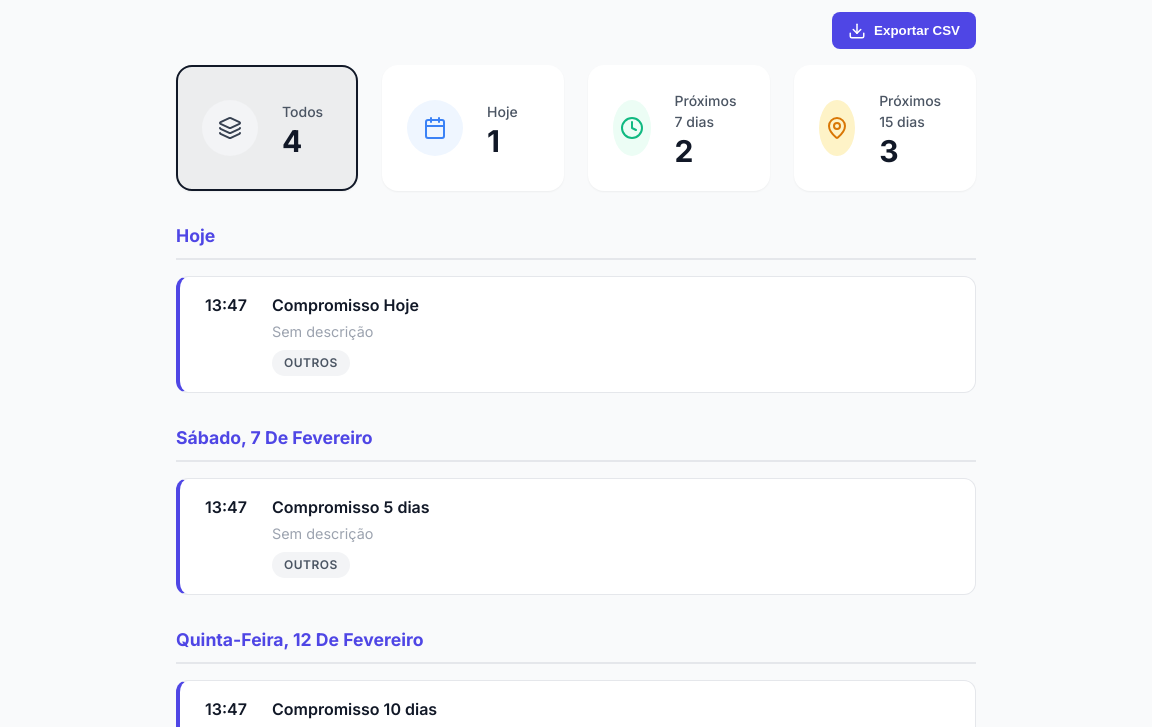
Scenario: AgendaView Component › deve filtrar compromissos por Hoje, 7 dias e 15 dias
Expected: the heading "Compromisso Hoje" is shown, 272,295 -> 419,315
Expected: the heading "Compromisso 5 dias" is shown, 272,497 -> 430,517
Note: Likely the first one is the card if it renders top to bottom.
Click the heading "Hoje" next to "Próximos 7 dias" at (502, 111), box 487,101 -> 518,122
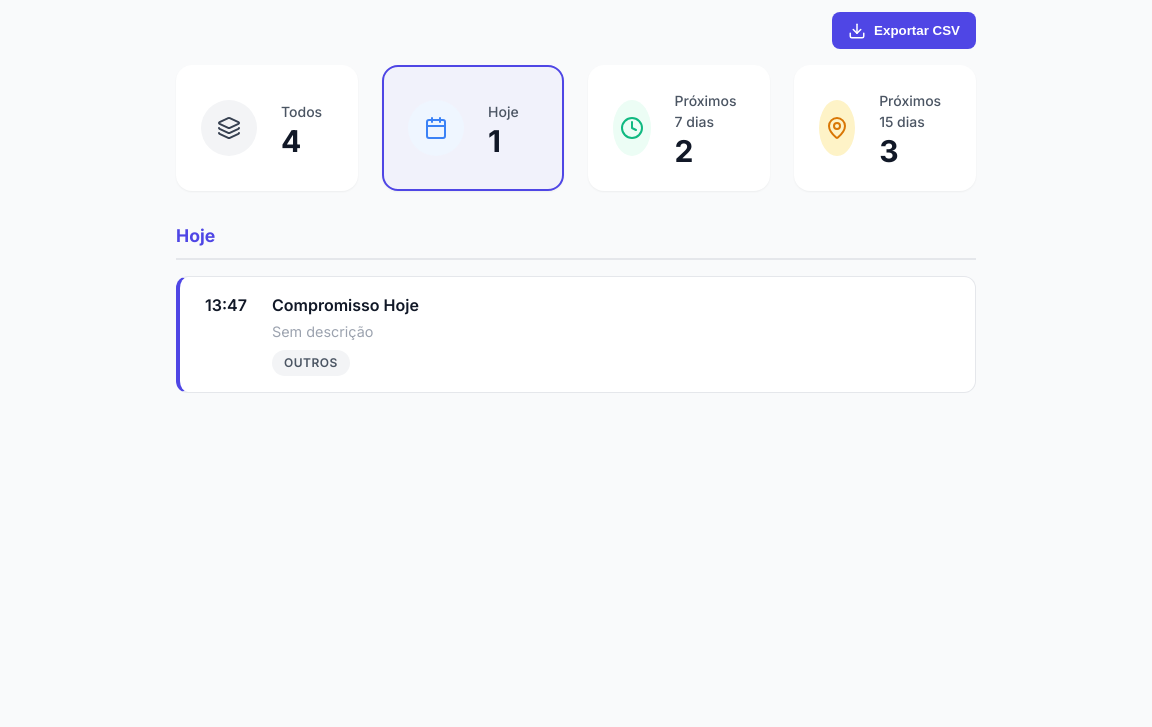
Expected: the heading "Compromisso Hoje" is shown, 272,295 -> 419,315
Now the heading "Compromisso 5 dias" is gone
Now the heading "Compromisso 10 dias" is gone
Note: Click "Próximos 7 dias"
Click the heading "Próximos 7 dias" at (710, 111), box 674,90 -> 745,132
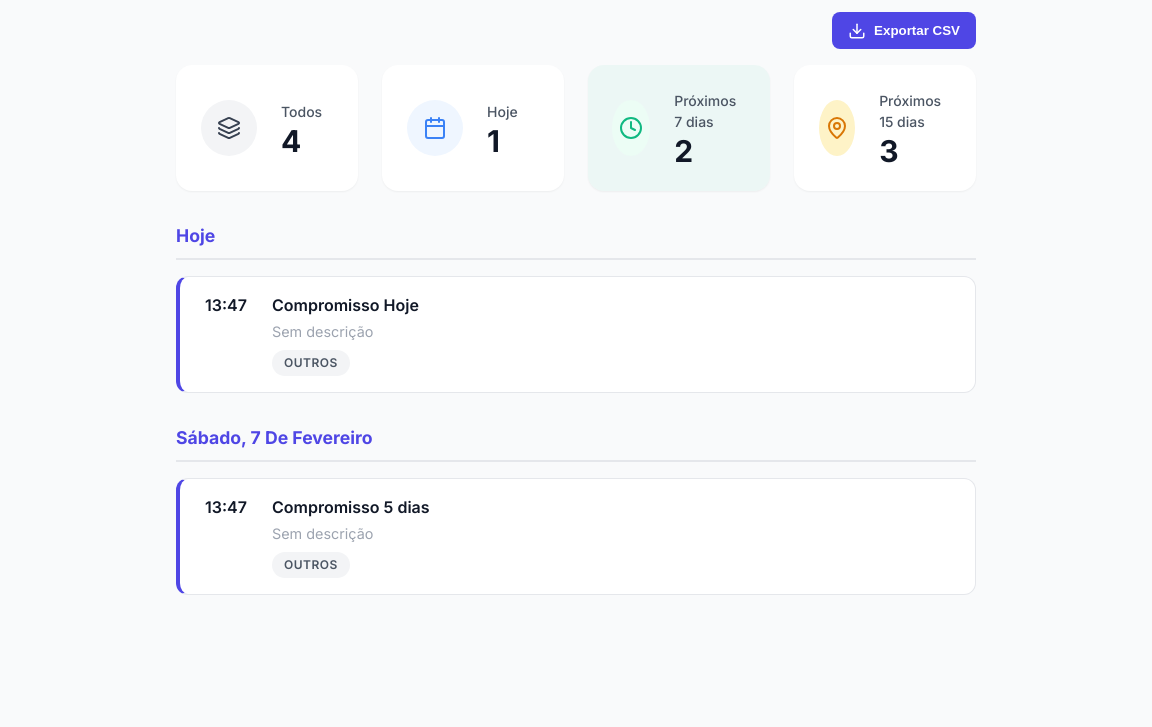
Expected: the heading "Compromisso Hoje" is shown, 272,295 -> 419,315
Now the heading "Compromisso 5 dias" is shown, box 272,497 -> 430,517
Note: Click "Próximos 15 dias"
Click the heading "Próximos 15 dias" at (915, 111), box 879,90 -> 951,132
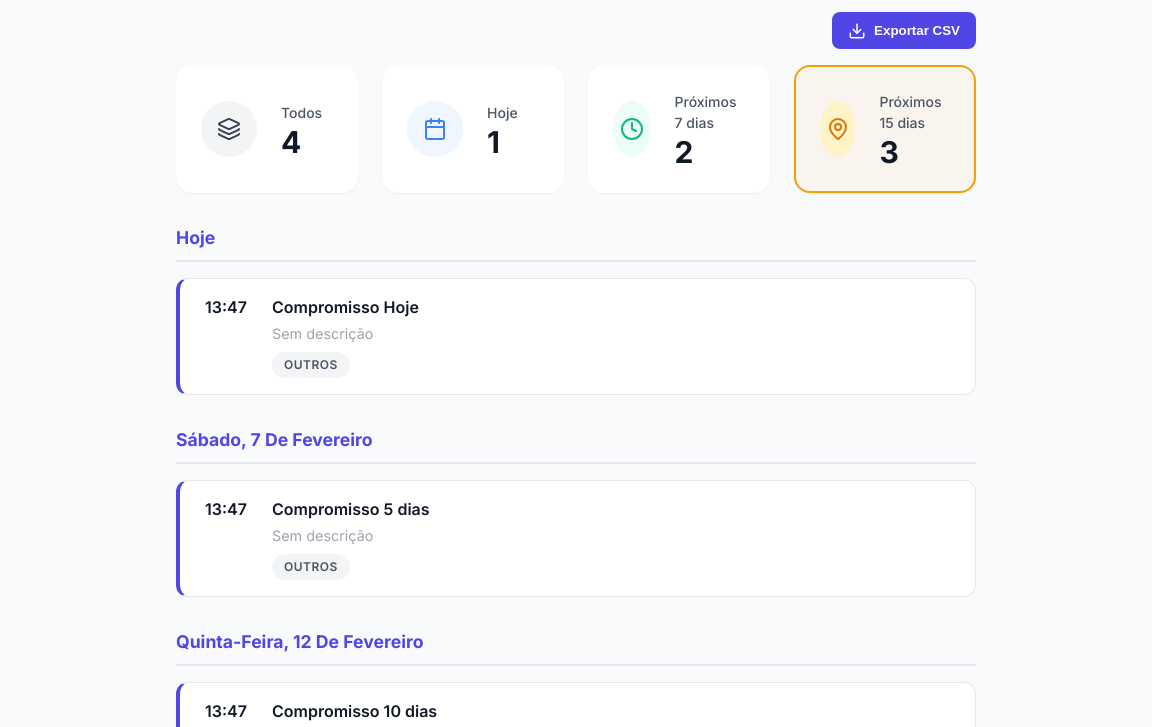
Now the heading "Compromisso 10 dias" is shown, box 272,701 -> 437,721
